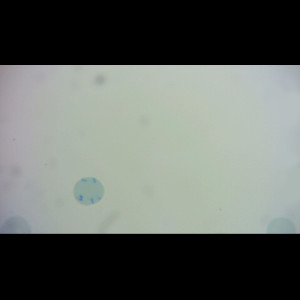aggregate reticulocyte: (72, 176, 106, 206)
